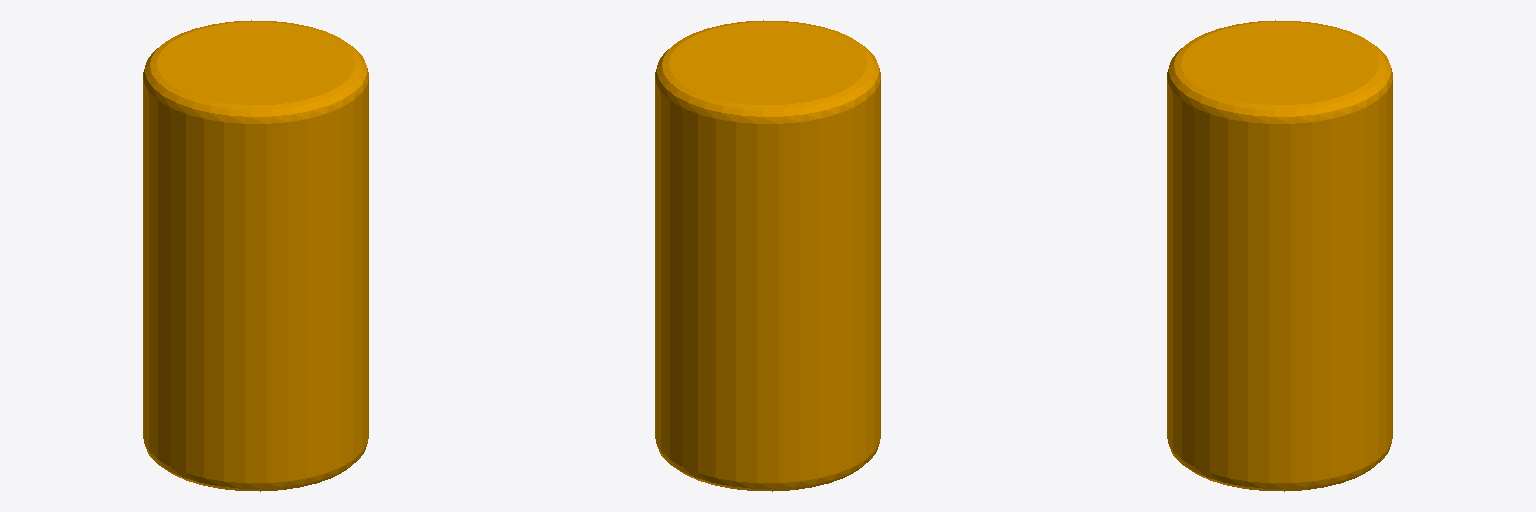
The robot description file, URDF, robot "00422_socket":
<?xml version="1.0"?>
<robot name="00422_socket">
	<link name="00422_socket">
		<visual>
			<geometry>
				<mesh filename="../mesh/00422/asset_socket.obj"/>
			</geometry>
		</visual>
		<collision>
			<geometry>
				<mesh filename="../mesh/00422/asset_socket.obj"/>
			</geometry>
			<sdf resolution="256"/>
		</collision>
	</link>
</robot>

--- Facts derived from the render (not from the file) ---
Views: 3 orthographic renders of the robot side by side, from view 1: azimuth 30°, elevation 25°; view 2: azimuth 150°, elevation 25°; view 3: azimuth 270°, elevation 25°.
Model 00422_socket with 1 links and 0 joints (none), rooted at 00422_socket, posed all joints at 0.
Visible links, largest first — view 1: 00422_socket; view 2: 00422_socket; view 3: 00422_socket.
Link boxes in pixels (left/top/right/bottom): 00422_socket: left=143, top=20, right=368, bottom=491; 00422_socket: left=655, top=20, right=880, bottom=491; 00422_socket: left=1167, top=20, right=1392, bottom=491.
Size in the robot's own frame: 0.0164 by 0.0164 by 0.0308 metres.
Meshes: 1 distinct files referenced, 1 mesh visuals loaded (1 OBJ).
